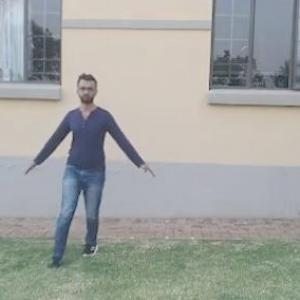land: (19, 77, 148, 247)
